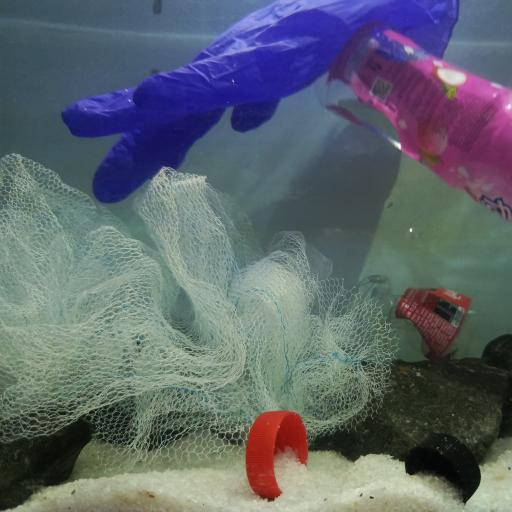bottle_cap: (246, 407, 308, 498), (406, 431, 482, 505)
glove: (60, 0, 464, 204)
net: (2, 149, 402, 459)
plastic_bottle: (314, 21, 512, 222), (352, 271, 500, 361)
